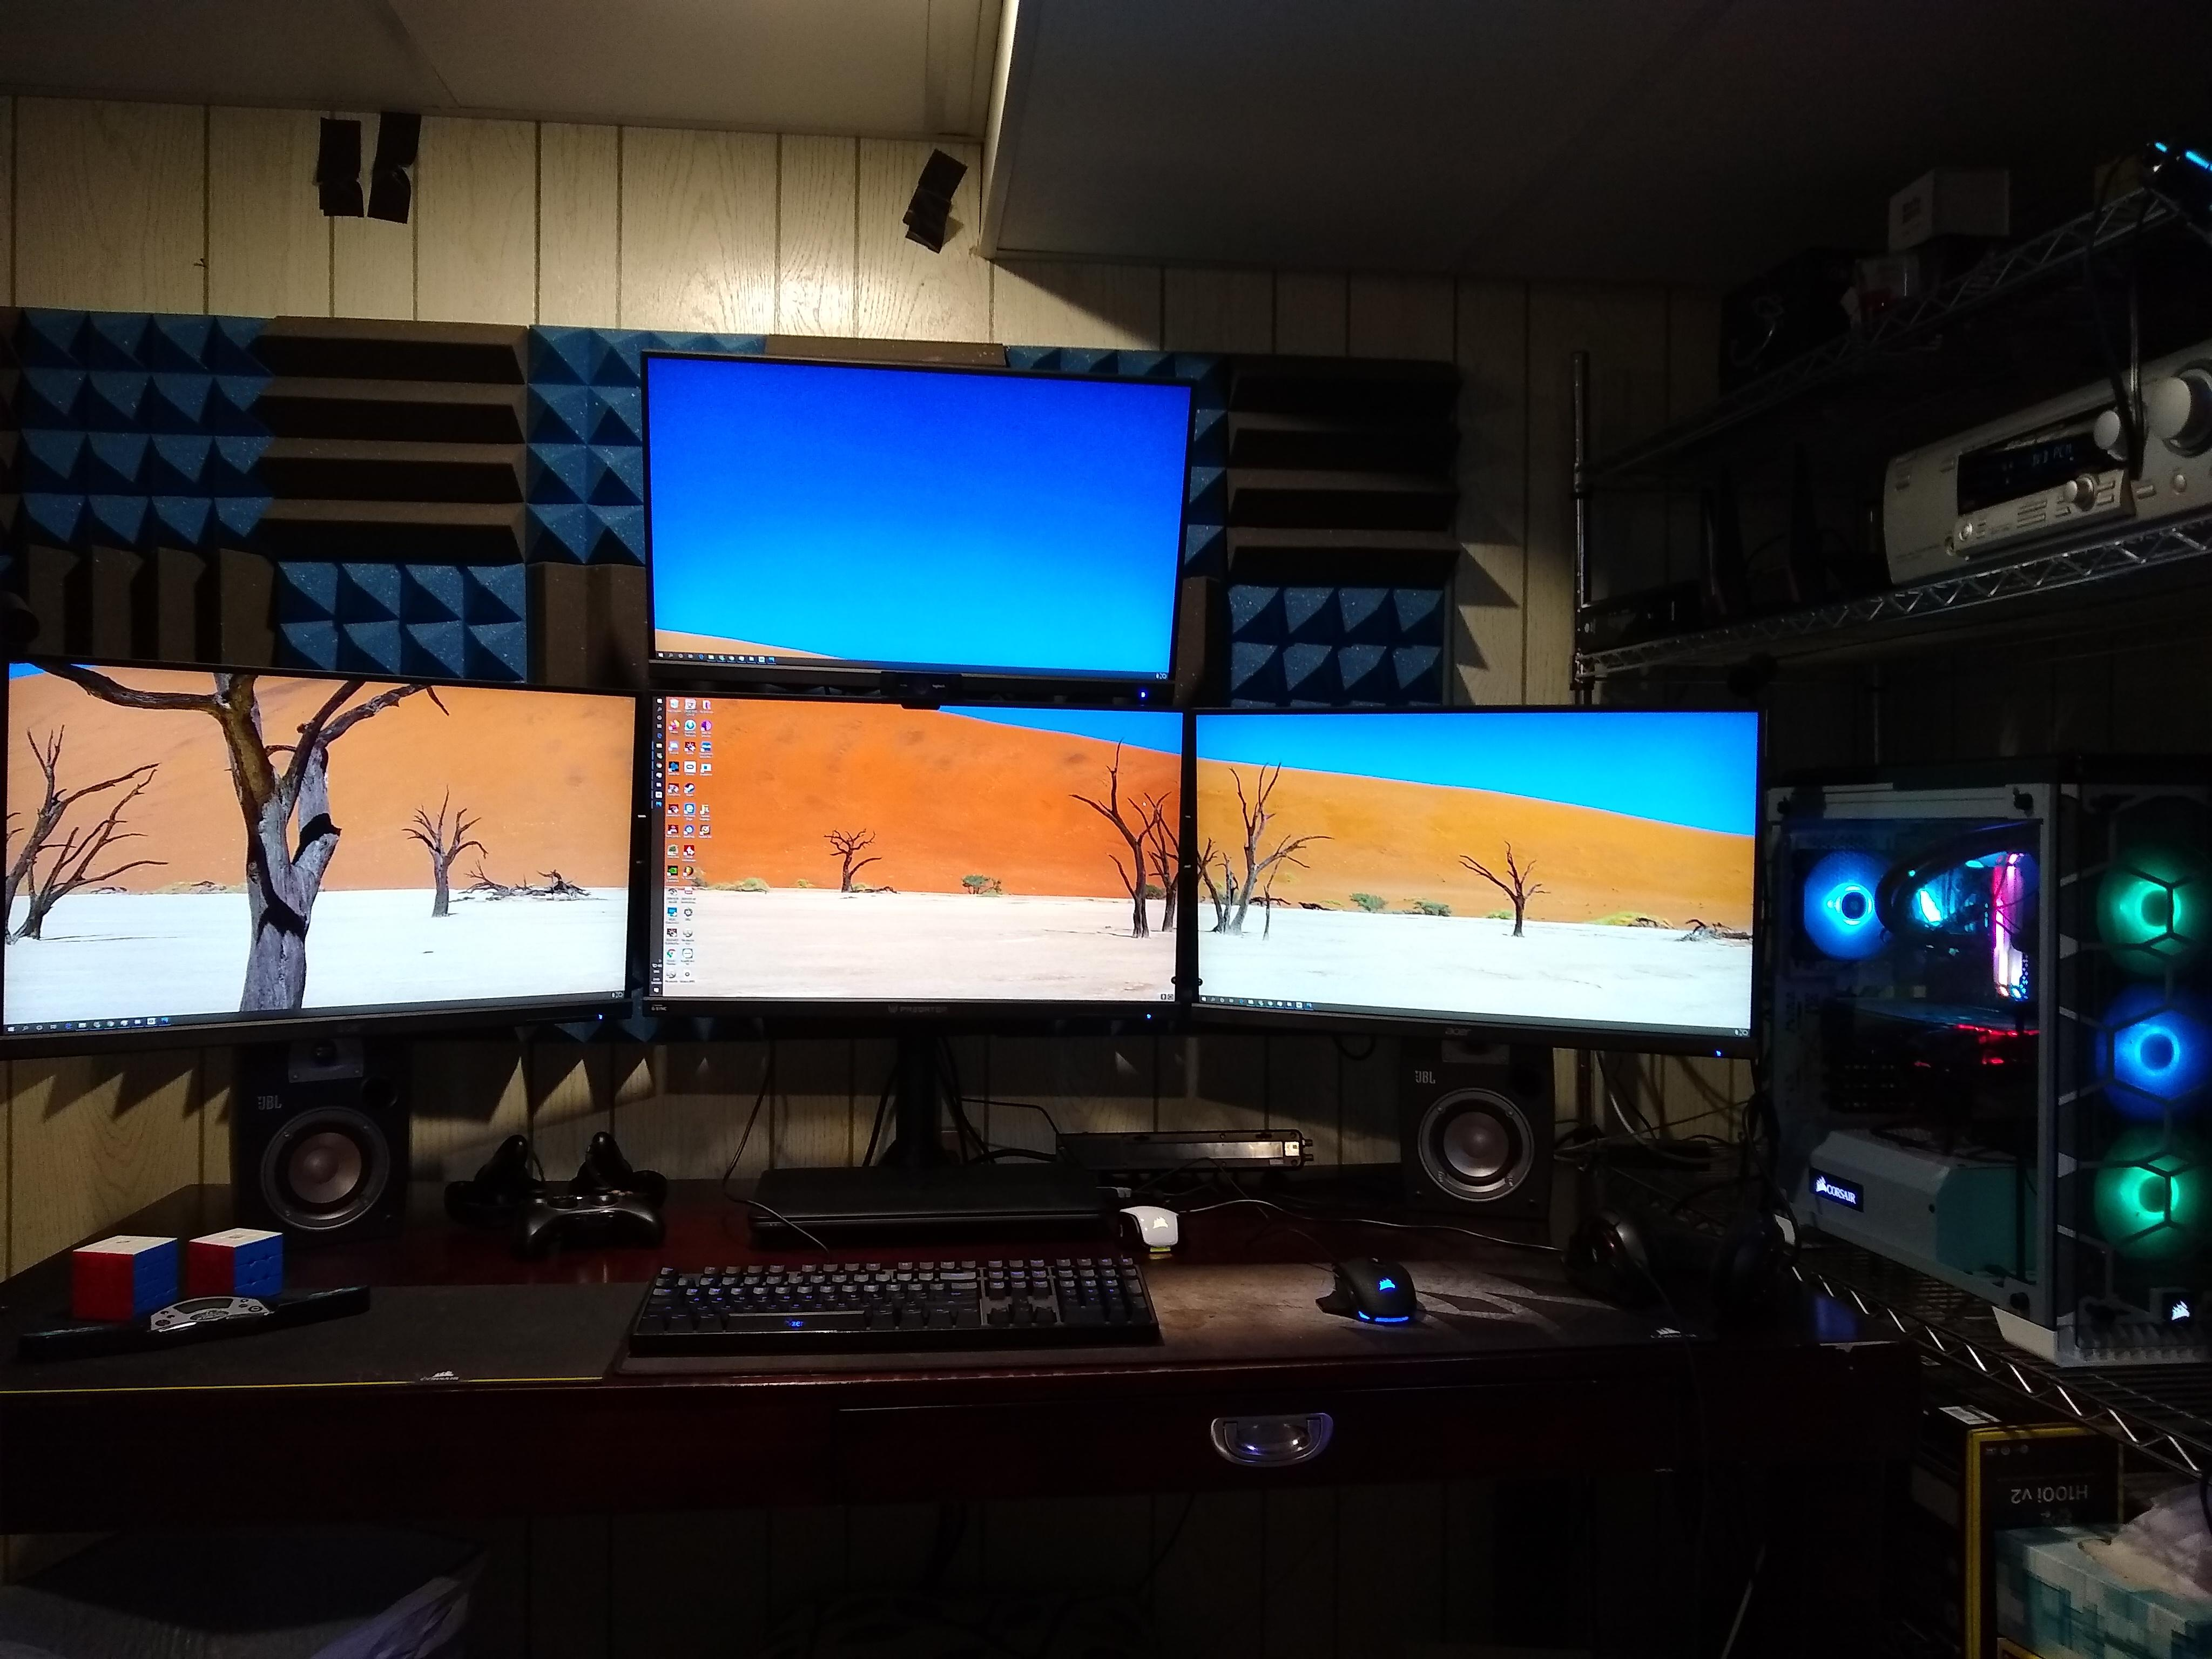Acoustic Foam: (0, 310, 1449, 702)
Decoration (Rubric's Cube): (77, 1243, 185, 1316), (190, 1230, 289, 1302)
Desk (Generic): (0, 1154, 1822, 1469)
Desktop (Windows): (1771, 788, 2209, 1370)
External Speakers (Subwoofers): (214, 1014, 423, 1253), (1404, 1035, 1559, 1227)
Gaming Controller: (441, 1133, 550, 1227), (521, 1183, 665, 1253), (568, 1133, 667, 1202)
Headphones: (1571, 1136, 1813, 1310)
Keyboard (Generic): (627, 1262, 1165, 1344)
Laptop (Generic): (744, 1162, 1104, 1232)
Monitor (Landscape): (2, 669, 629, 1026), (1191, 702, 1782, 1072), (646, 697, 1181, 1035), (646, 359, 1174, 695)
Mouse (Gaming): (1305, 1251, 1421, 1333)
Mouse (Generic): (1109, 1204, 1186, 1255)
Mousepad (Gaming): (178, 1265, 1597, 1377)
